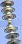gap: (2, 13, 19, 33)
